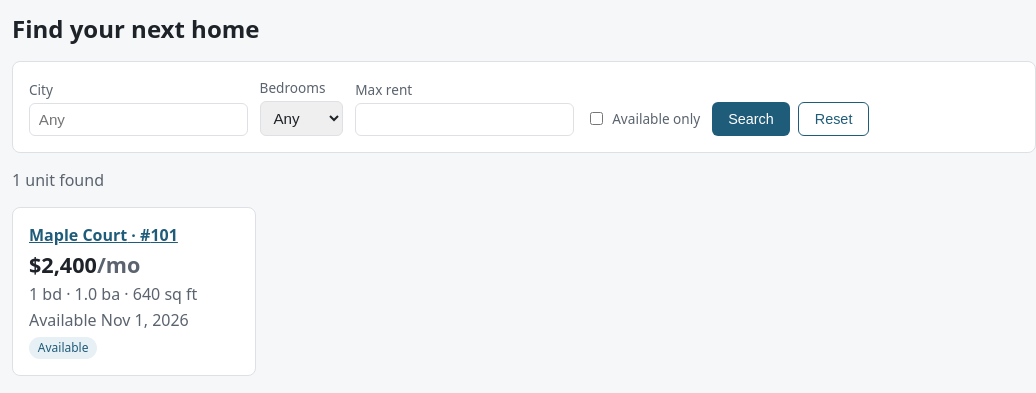
it: ListingsPage › sends selected filters to the API
Check: the link "Maple Court · #101" is shown, box [29, 224, 178, 246]
Select "2" in the dropdown labelled "Bedrooms". click: coordinates (301, 119)
box: [260, 101, 343, 136]
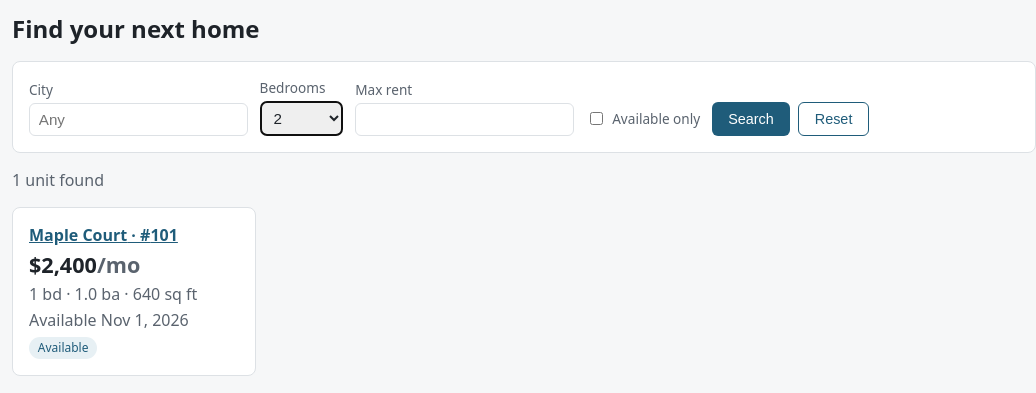
Type "3000" into the number field labelled "Max rent". click: coordinates (464, 120)
box: [355, 103, 574, 136]
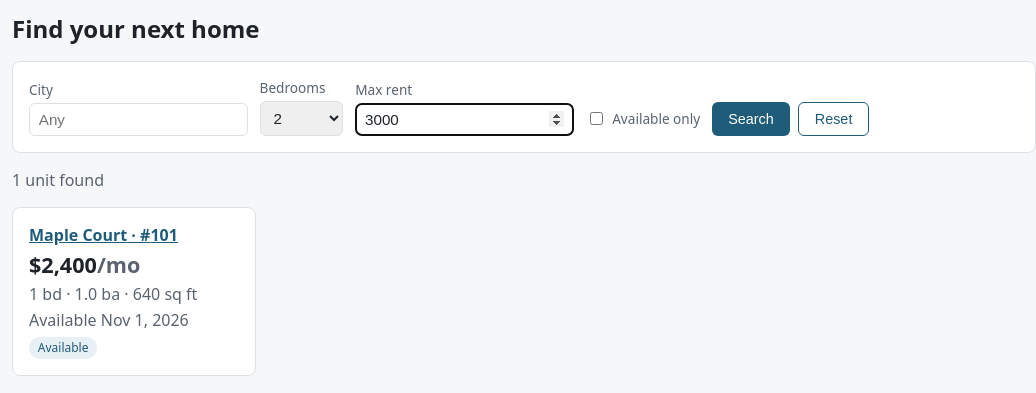
Click the checkbox labelled "Available only". click: coordinates (596, 119)
box: [590, 112, 603, 125]
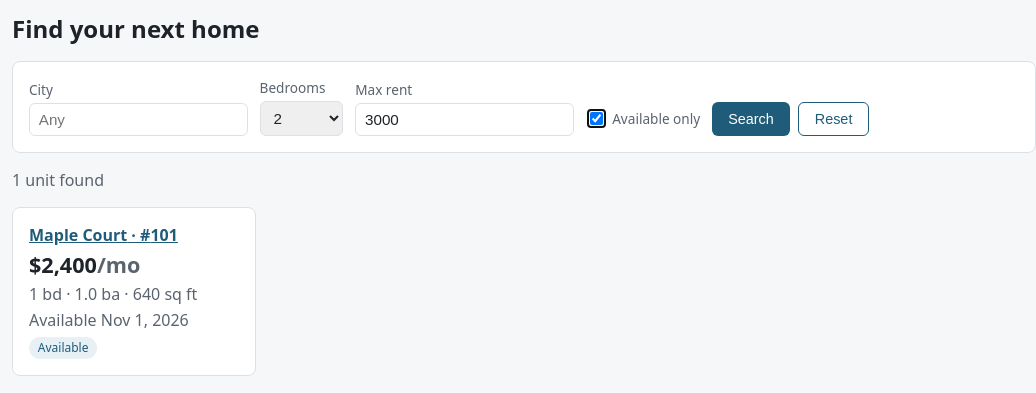
Click the button "Search". click: coordinates (751, 119)
box: [712, 102, 790, 136]
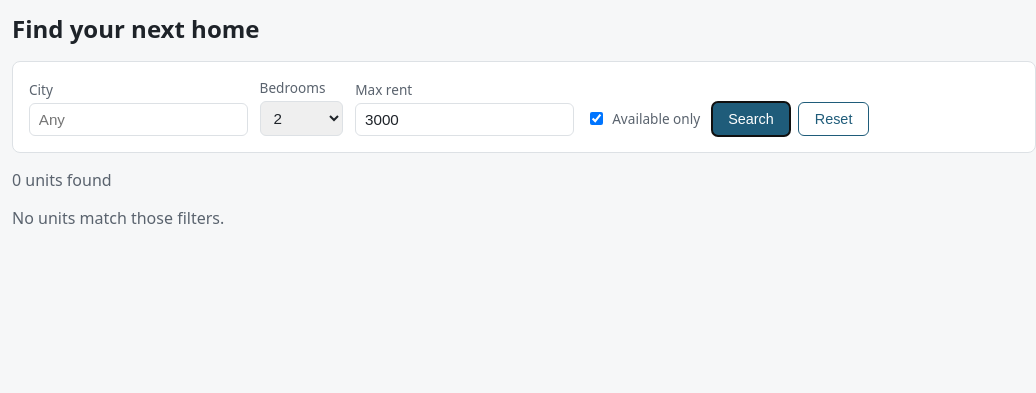
Check: the text "No units match those filters." is shown, box [12, 207, 224, 229]
